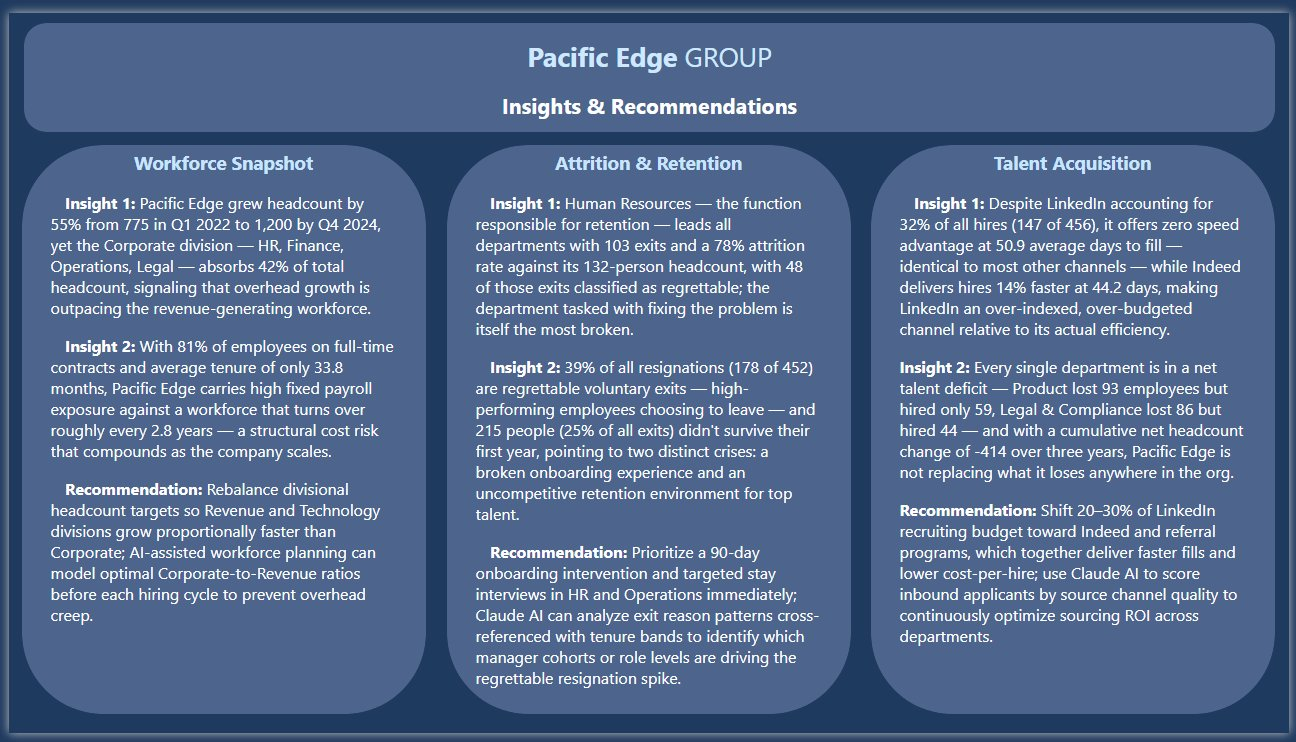

The dashboard page shown, as its layout file describes it:
{"tool":"powerbi","page":{"name":"Insights & Recommendations","canvas":[1280,720],"ordinal":3},"visuals":[{"type":"shape","box":[14.5,10,1251,109],"z":0},{"type":"textbox","box":[16,20,1250,99],"z":1000},{"type":"shape","box":[13,132,404,569],"z":2000},{"type":"textbox","box":[37,132,356,569],"z":3000},{"type":"shape","box":[437.5,132,404,569],"z":4000},{"type":"shape","box":[862,132,404,569],"z":5000},{"type":"textbox","box":[462,132,356,569],"z":6000},{"type":"textbox","box":[886,132,356,569],"z":7000}]}

Visuals, with their boxes in screenshot pixels (x1, y1, x2, y2), scaled from the page's 1280x720 canvas onto the 1296x742 screenshot:
shape: <bbox>15, 10, 1281, 123</bbox>
textbox: <bbox>16, 21, 1282, 123</bbox>
shape: <bbox>13, 136, 422, 722</bbox>
textbox: <bbox>37, 136, 398, 722</bbox>
shape: <bbox>443, 136, 852, 722</bbox>
shape: <bbox>873, 136, 1282, 722</bbox>
textbox: <bbox>468, 136, 828, 722</bbox>
textbox: <bbox>897, 136, 1258, 722</bbox>
